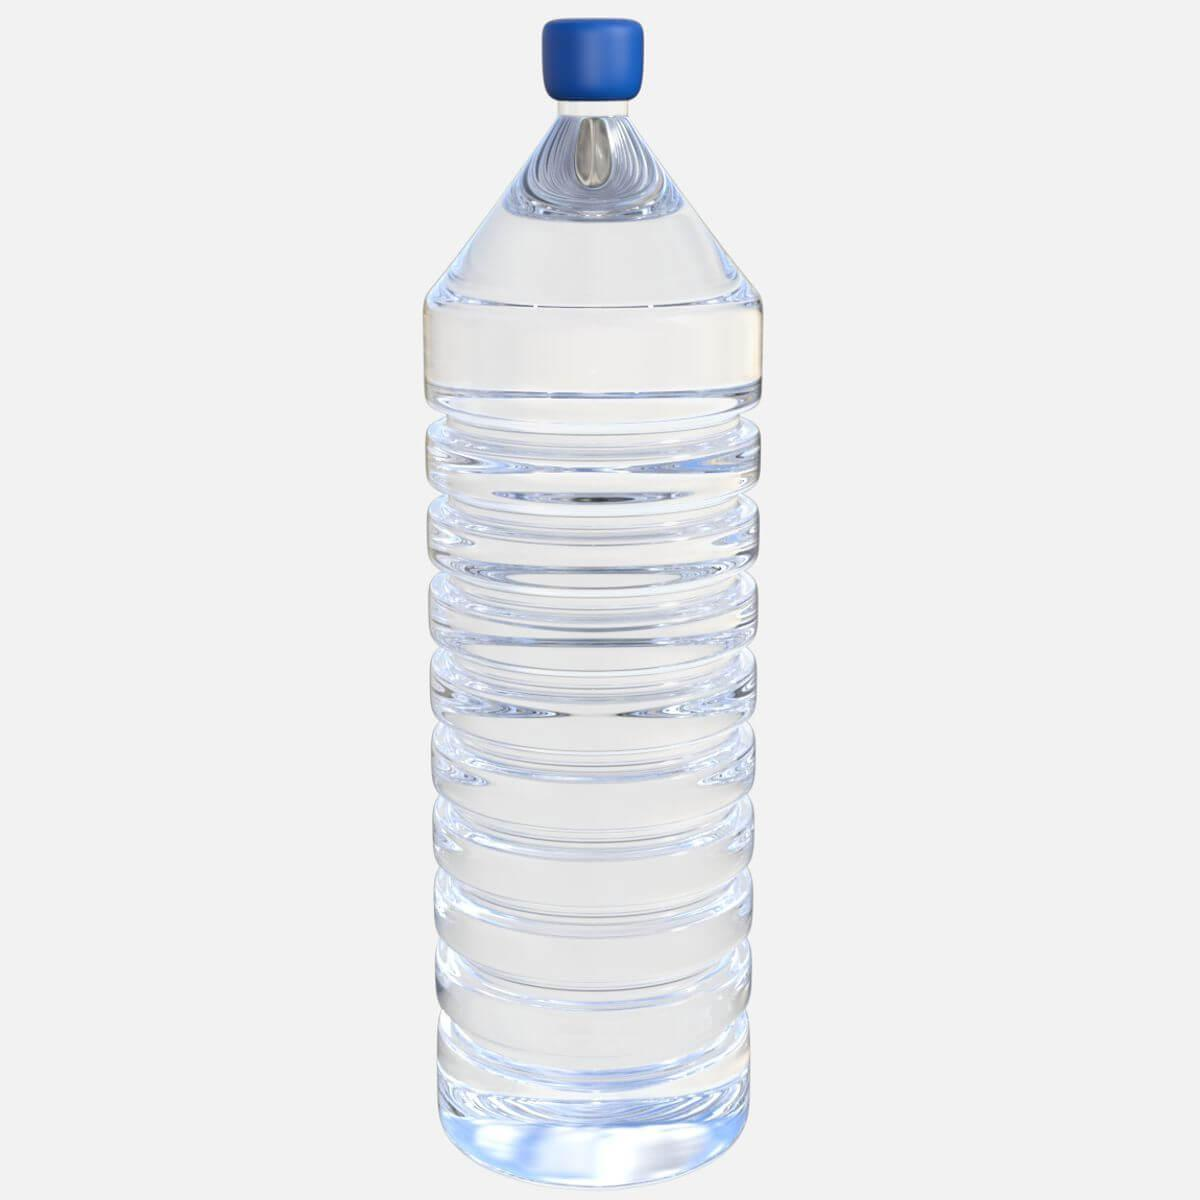bottle: (371, 0, 795, 1197)
